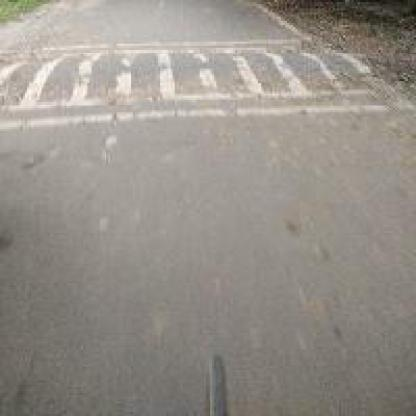Speed Bump: (2, 37, 402, 129)
